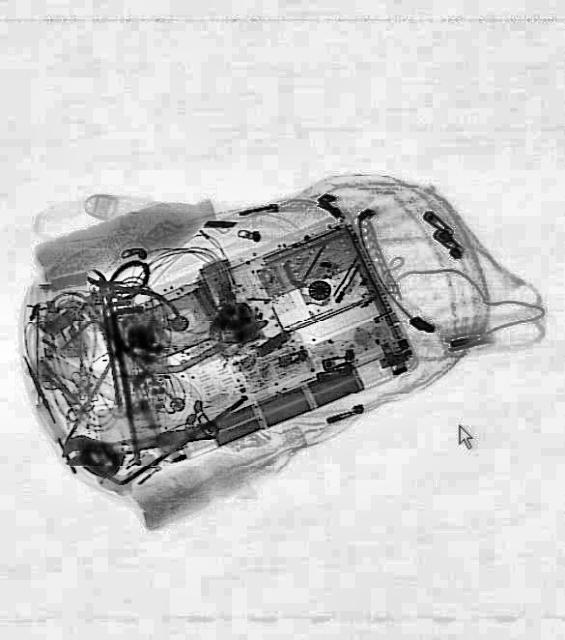Pliers: (70, 245, 186, 362)
Wrench: (58, 411, 220, 473)
